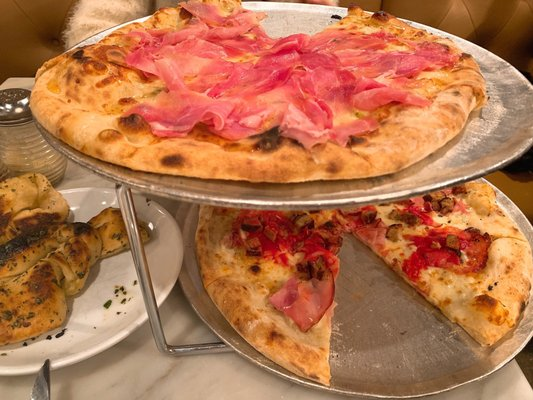sandwich: (30, 358, 51, 400)
